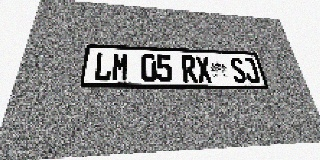0: (141, 54, 157, 82)
5: (156, 54, 173, 82)
J: (241, 58, 261, 83)
L: (93, 52, 112, 81)
M: (111, 53, 129, 82)
R: (181, 55, 198, 82)
S: (229, 57, 248, 83)
X: (195, 56, 213, 83)
